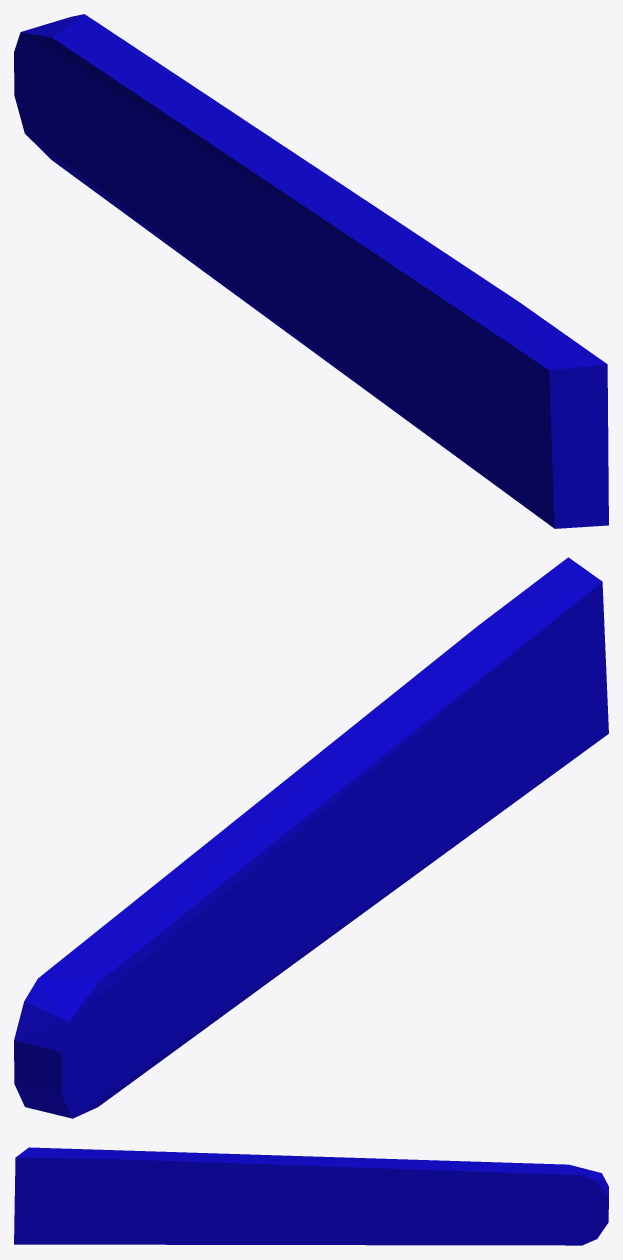
File: model7_convex_piece_002.obj
3 views of the same model, one above another, from view 1: azimuth 30°, elevation 25°; view 2: azimuth 150°, elevation 25°; view 3: azimuth 270°, elevation 25° (orthographic). The views are drawn at different scales.
Bounding box in the file's own units: 0.00479 × 0.0157 × 0.0965.
